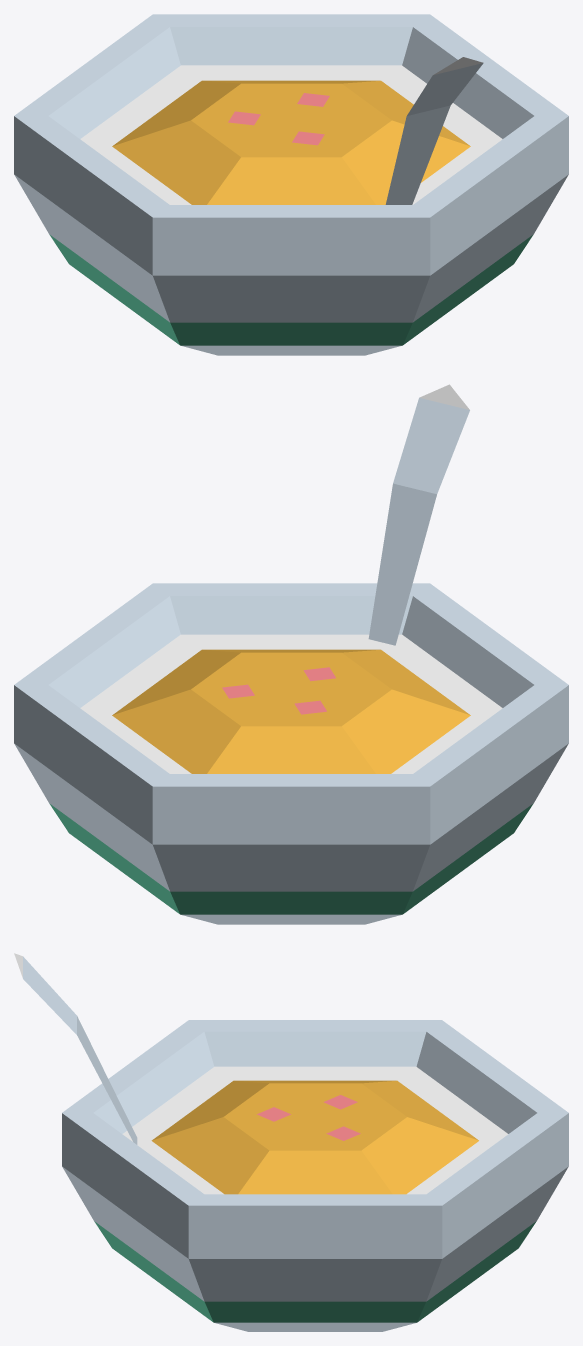
Rendered from bowlCereal.dae.
The picture shows the model from 3 angles, top to bottom: view 1: azimuth 30°, elevation 25°; view 2: azimuth 150°, elevation 25°; view 3: azimuth 270°, elevation 25°; orthographic projection. The views are drawn at different scales.
Visible parts, largest first — view 1: bowlCereal; view 2: bowlCereal; view 3: bowlCereal.
Boxes of the visible parts, x1,y1,x2,y2 form: bowlCereal: (14, 14, 568, 355); bowlCereal: (14, 384, 568, 924); bowlCereal: (14, 953, 568, 1331).
Size of the model in its own units: 0.5022 by 0.4193 by 0.6346.
